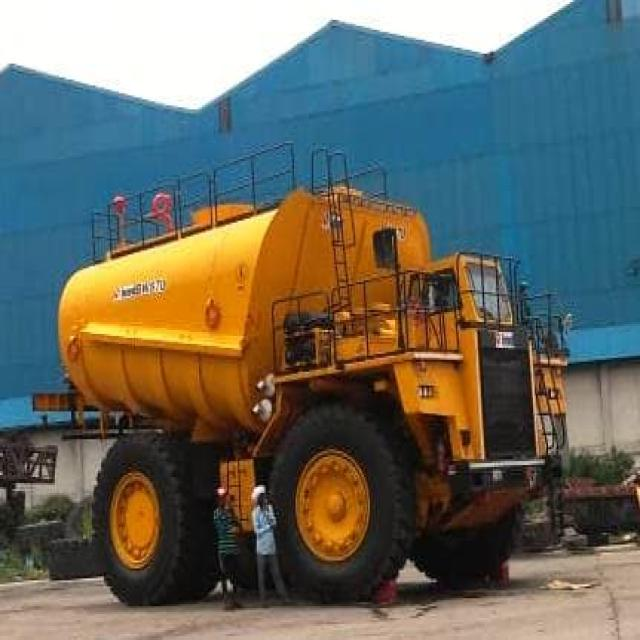dump_truck: (45, 160, 578, 604)
